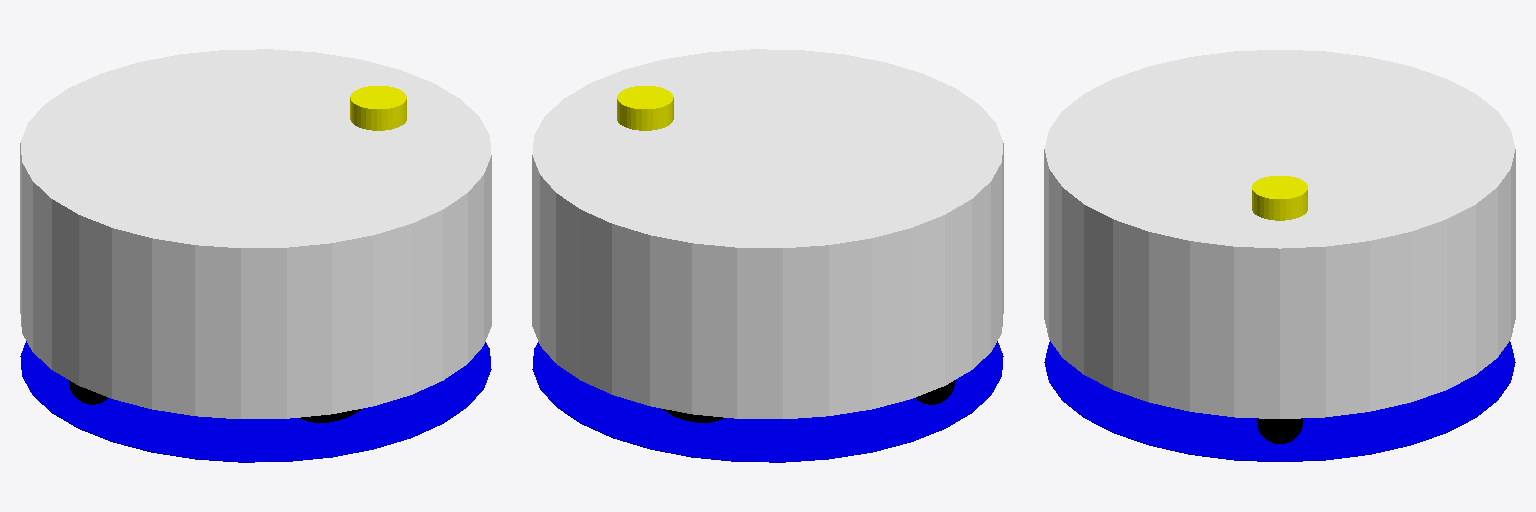
robot.urdf — robot:
<?xml version="1.0" encoding="utf-8"?>

<robot name="robot">
	<link name = "base_link">
      	<visual>
        	<origin xyz="0 0 0" rpy="0 0 0"/>
        	<geometry>
            	<cylinder radius="0.25" length="0.001"/>
        	</geometry>
        	<material name="blue">
               	<color rgba="0.0 0.0 1.0 0.2"/>
         	</material>
    	</visual>
  	</link>
 
	<link name = "robot_base">
      	<visual>
        	<origin xyz="0 0 0" rpy="0 0 0"/>
        	<geometry>
            	<cylinder radius="0.25" length="0.2"/>
        	</geometry>
        	<material name="white">
               	<color rgba="1 1 1 1"/>
         	</material>
    	</visual>
  	</link>

	<link name = "left_wheel">
      	<visual>
        	<origin xyz="0 0 0" rpy="0 0 0"/>
        	<geometry>
            	<cylinder radius="0.08" length="0.04"/>
        	</geometry>
        	<material name="black">
               	<color rgba="0 0 0 1"/>
         	</material>
    	</visual>
  	</link>

	<link name = "right_wheel">
      	<visual>
        	<origin xyz="0 0 0" rpy="0 0 0"/>
        	<geometry>
            	<cylinder radius="0.08" length="0.04"/>
        	</geometry>
        	<material name="black">
               	<color rgba="0 0 0 1"/>
         	</material>
    	</visual>
  	</link>

	<link name = "forward_caster_wheel">
      	<visual>
        	<origin xyz="0 0 0" rpy="0 0 0"/>
        	<geometry>
            	<sphere radius="0.025"/>
        	</geometry>
        	<material name="black">
               	<color rgba="0 0 0 1"/>
         	</material>
    	</visual>
  	</link>

	<link name = "backward_caster_wheel">
      	<visual>
        	<origin xyz="0 0 0" rpy="0 0 0"/>
        	<geometry>
            	<sphere radius="0.025"/>
        	</geometry>
        	<material name="black">
               	<color rgba="0 0 0 1"/>
         	</material>
    	</visual>
  	</link>

	<link name = "lidar">
      	<visual>
        	<origin xyz="0 0 0" rpy="0 0 0"/>
        	<geometry>
            	<cylinder radius="0.03" length="0.025"/>
        	</geometry>
        	<material name="yellow">
               	<color rgba="1 1 0 1"/>
         	</material>
    	</visual>
  	</link>


	<joint name="base_to_base_link_joint" type="fixed">
    	<parent link="base_link"/>
    	<child link="robot_base"/>
    	<origin xyz="0 0 0.15" rpy="0 0 0"/>
	</joint>

	<joint name="left_wheel_to_base_joint" type="continuous">
    	<parent link="robot_base"/>
    	<child link="left_wheel"/>
    	<origin xyz="0 0.15 -0.07" rpy="1.57079632679 0 0"/>
	</joint>

	<joint name="right_wheel_to_base_joint" type="continuous">
    	<parent link="robot_base"/>
    	<child link="right_wheel"/>
    	<origin xyz="0 -0.15 -0.07" rpy="1.57079632679 0 0"/>
	</joint>

	<joint name="forward_wheel_to_base_joint" type="continuous">
    	<parent link="robot_base"/>
    	<child link="forward_caster_wheel"/>
    	<origin xyz="0.2 0 -0.125" rpy="0 0 0"/>
	</joint>

	<joint name="backward_wheel_to_base_joint" type="continuous">
    	<parent link="robot_base"/>
    	<child link="backward_caster_wheel"/>
    	<origin xyz="-0.2 0 -0.125" rpy="0 0 0"/>
	</joint>

	<joint name="lidar_to_base_joint" type="continuous">
    	<parent link="robot_base"/>
    	<child link="lidar"/>
    	<origin xyz="0.15 0 0.1125" rpy="0 0 0"/>
	</joint>

</robot>

--- Render facts (derived) ---
3 views of the same robot in one strip: view 1: azimuth 30°, elevation 25°; view 2: azimuth 150°, elevation 25°; view 3: azimuth 270°, elevation 25° (orthographic).
Robot: robot — 7 links, 6 joints (5 continuous, 1 fixed); root link base_link; default pose: all joints at 0.
Visible links, largest first — view 1: robot_base, base_link, lidar; view 2: robot_base, base_link, lidar; view 3: robot_base, base_link, lidar, forward_caster_wheel.
Link boxes in pixels (x1=…): robot_base: x1=20, y1=49, x2=491, y2=418; base_link: x1=20, y1=341, x2=491, y2=462; lidar: x1=350, y1=86, x2=406, y2=130; robot_base: x1=532, y1=49, x2=1003, y2=418; base_link: x1=532, y1=341, x2=1003, y2=462; lidar: x1=617, y1=86, x2=673, y2=130; robot_base: x1=1044, y1=50, x2=1515, y2=418; base_link: x1=1044, y1=341, x2=1515, y2=461; lidar: x1=1252, y1=176, x2=1307, y2=220; forward_caster_wheel: x1=1256, y1=418, x2=1303, y2=443.
Bounding box of the posed robot: 0.5 × 0.5 × 0.2755 m (x, y, z).
Geometry: primitives only (box / cylinder / sphere), no mesh files.